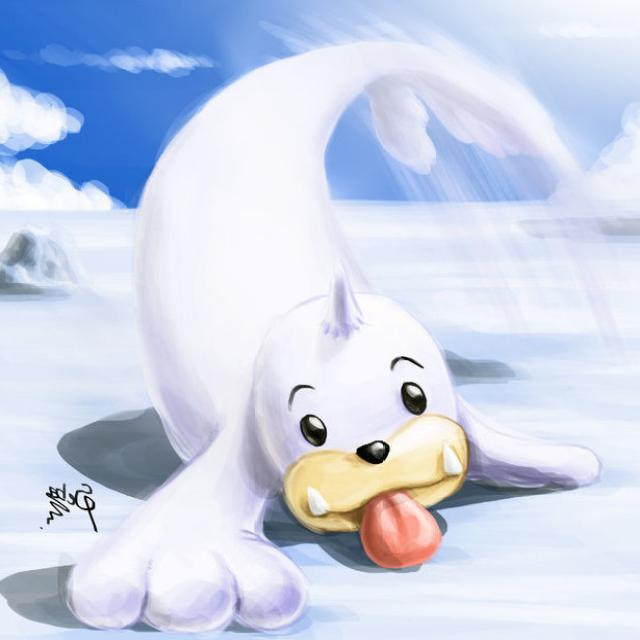Seel: (137, 41, 577, 626)
